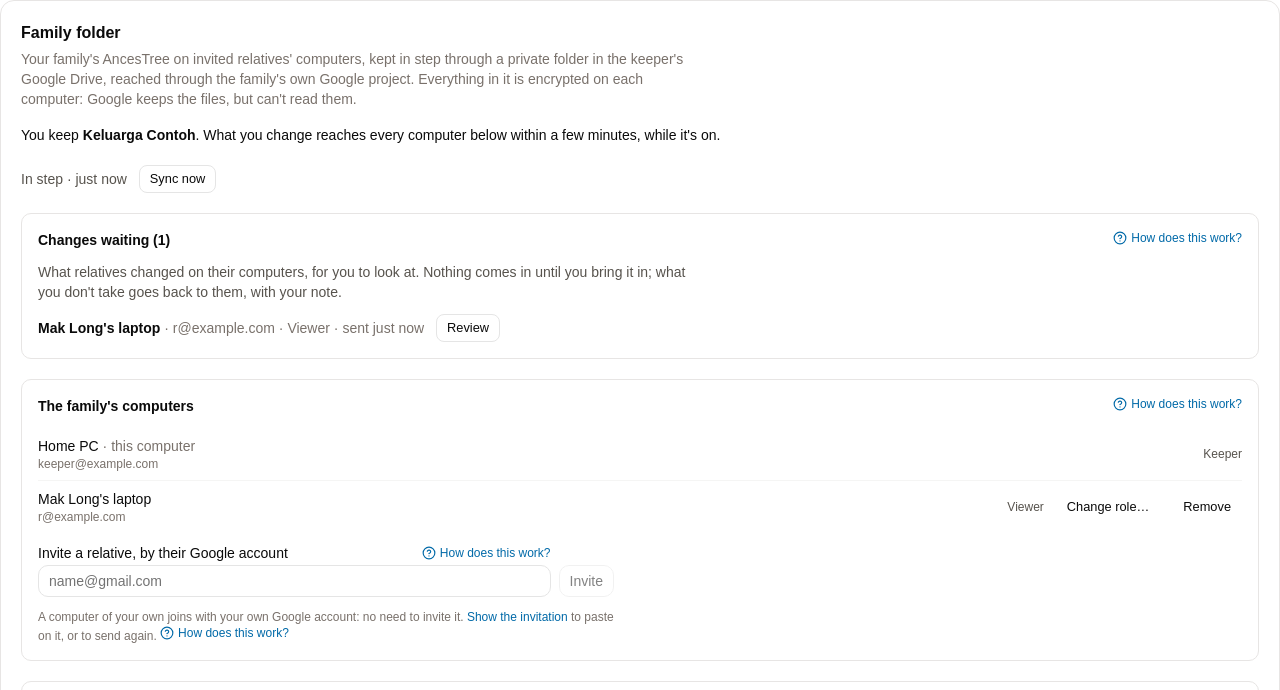
Settings → Family folder › shows a viewer's words for review, theirs alone
Click the button "Review" at point(468, 328), box [436,314,500,342]
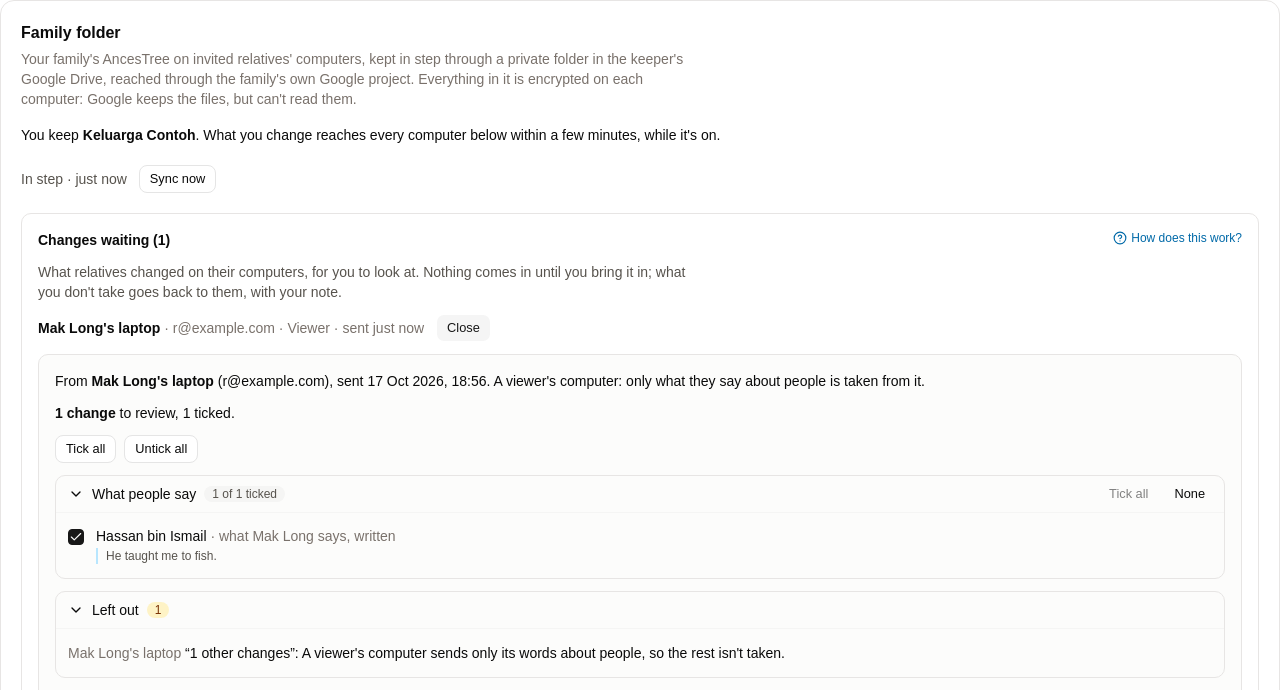
Expected: the text "only what they say about people is taken from it" is shown, [490,373,925,389]
Expected: the text "What people say" is shown, [92,484,196,504]
Expected: the text "sends only its words about people" is shown, [302,645,785,661]
